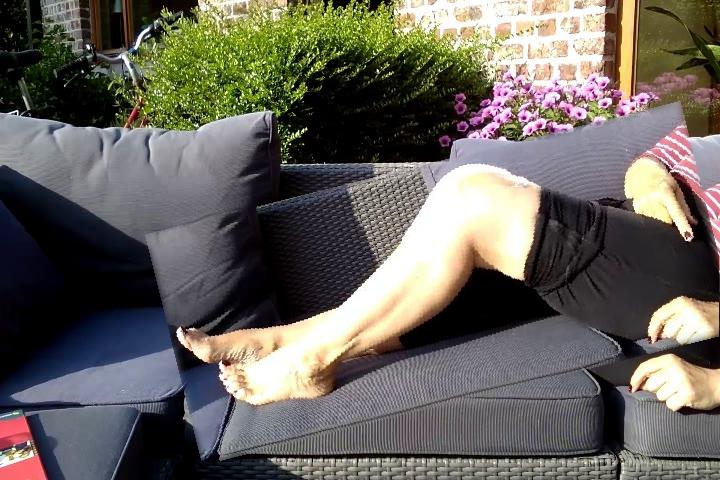lowerbody: (156, 133, 720, 434)
